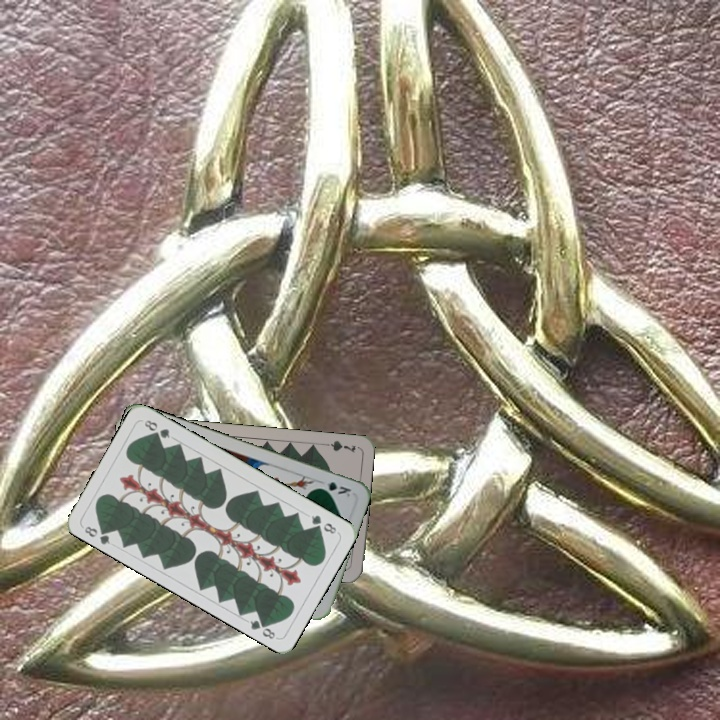G7: (318, 436, 358, 455)
G8: (307, 511, 341, 537), (80, 522, 113, 547)
GK: (314, 478, 354, 499)
